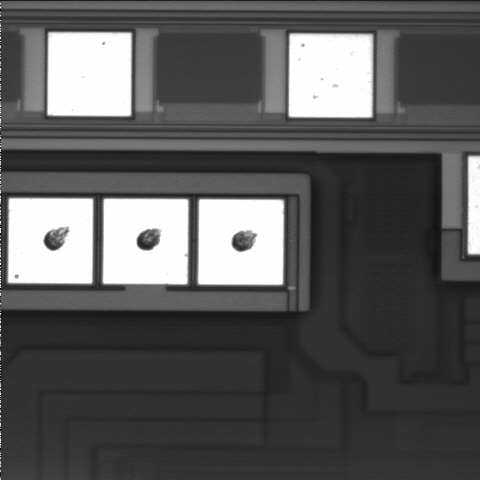pad: (198, 199, 284, 285), (8, 198, 93, 283), (103, 199, 188, 284), (48, 33, 131, 116), (289, 34, 372, 117)
